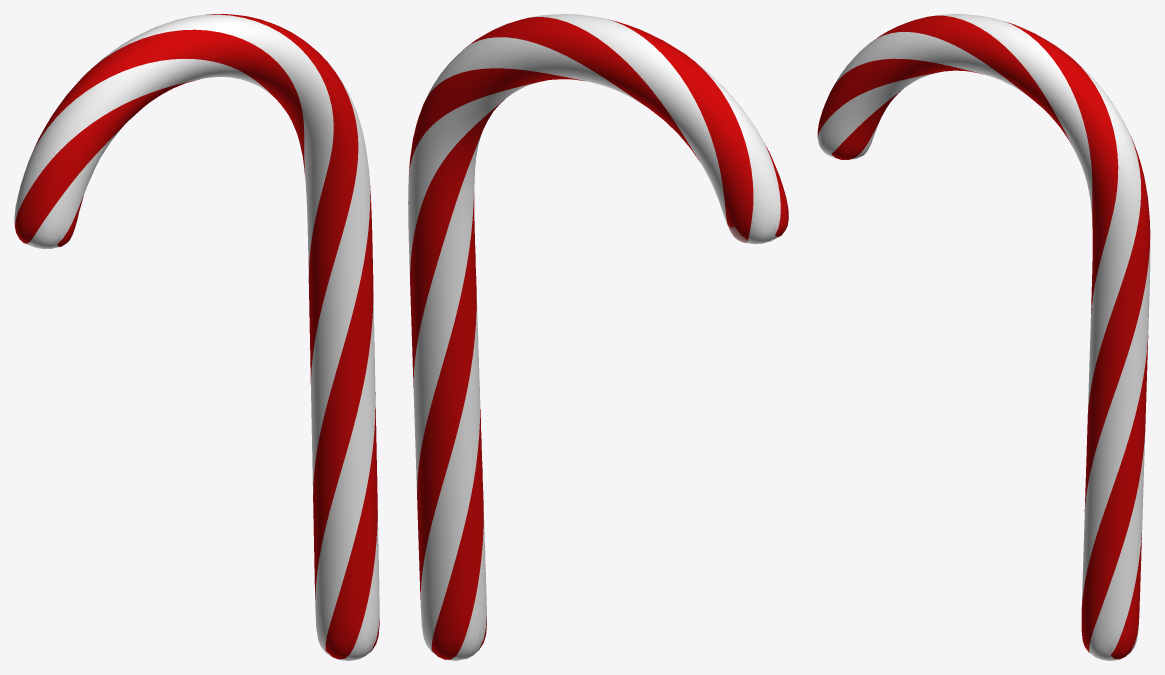
File: candycane-CrPeXEn-.glb
The picture shows the model from 3 angles, left to right: view 1: azimuth 30°, elevation 25°; view 2: azimuth 150°, elevation 25°; view 3: azimuth 330°, elevation 25°; orthographic projection. The views are drawn at different scales.
Parts seen in each view (by area): view 1: Object_2; view 2: Object_2; view 3: Object_2.
Boxes of the visible parts, x1=… form: Object_2: x1=14, y1=14, x2=379, y2=660; Object_2: x1=408, y1=14, x2=788, y2=660; Object_2: x1=817, y1=14, x2=1150, y2=660.
Size of the model in its own units: 2.33 by 4.14 by 0.5115.
1 material, 1 textured.
